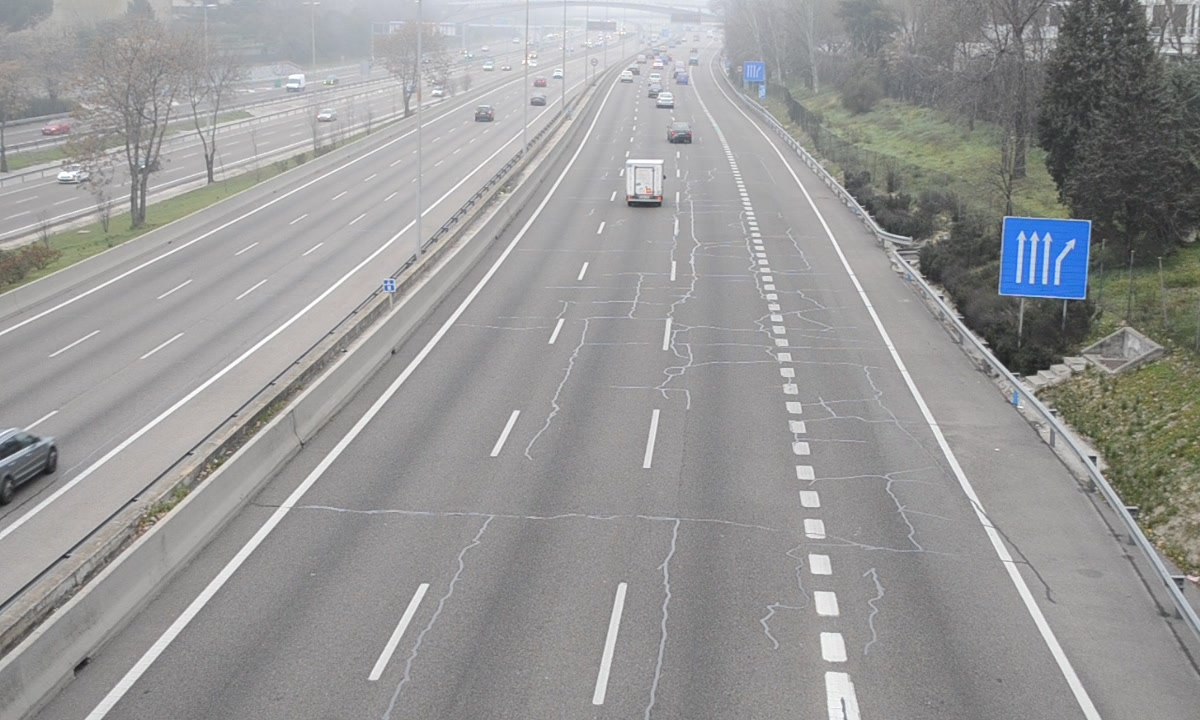car: (666, 120, 693, 143)
small-truck: (622, 159, 665, 205)
